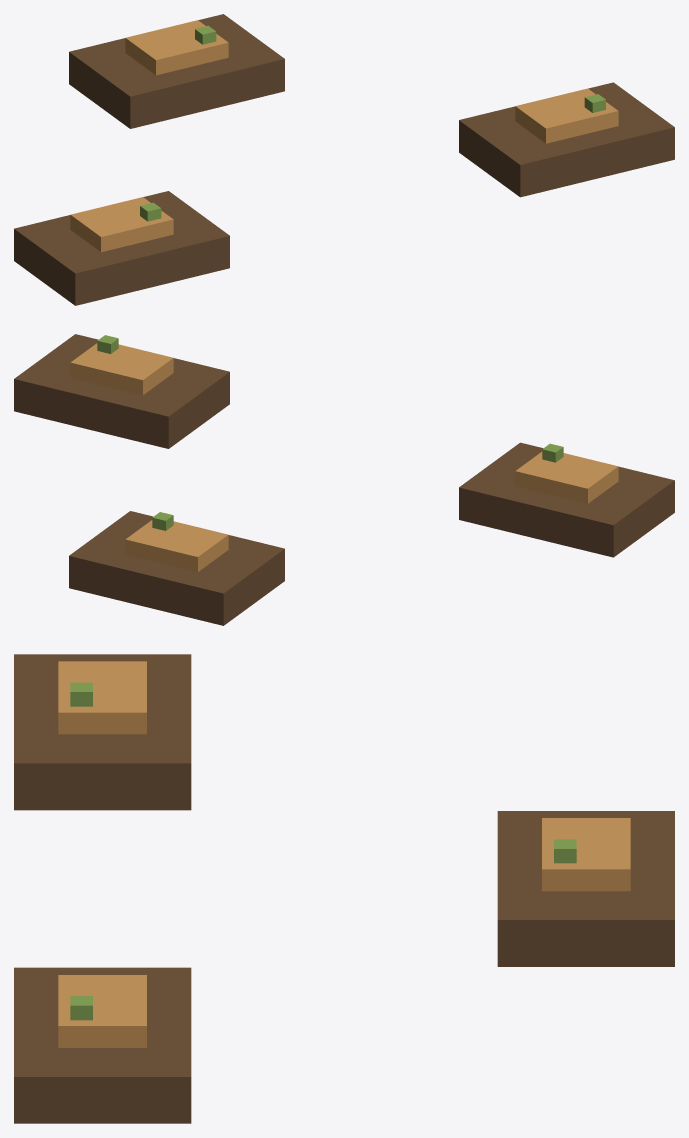
The model's file is crop_potato_seed.glb.
3 views of the same model, one above another, from view 1: azimuth 30°, elevation 25°; view 2: azimuth 150°, elevation 25°; view 3: azimuth 270°, elevation 25° (orthographic). The views are drawn at different scales.
Parts seen in each view (by area): view 1: body__soil.002, body__wood3, body__leaf2.006; view 2: body__soil.002, body__wood3, body__leaf2.006; view 3: body__soil.002, body__wood3, body__leaf2.006.
Boxes of the visible parts, box(x1,y1,x2,y2) form: body__soil.002: box(14, 14, 674, 305); body__wood3: box(70, 20, 618, 252); body__leaf2.006: box(140, 25, 605, 221); body__soil.002: box(14, 334, 674, 625); body__wood3: box(70, 343, 618, 572); body__leaf2.006: box(97, 335, 563, 530); body__soil.002: box(14, 654, 674, 1123); body__wood3: box(58, 661, 630, 1047); body__leaf2.006: box(70, 682, 576, 1020).
Size of the model in its own units: 0.62 by 0.057 by 0.41.
